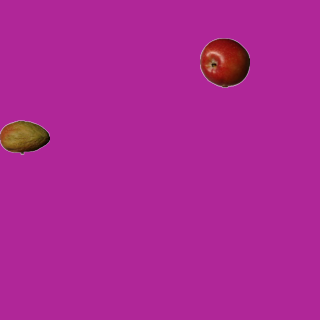Apple Braeburn: (199, 37, 249, 87)
Papaya: (0, 112, 49, 162)
